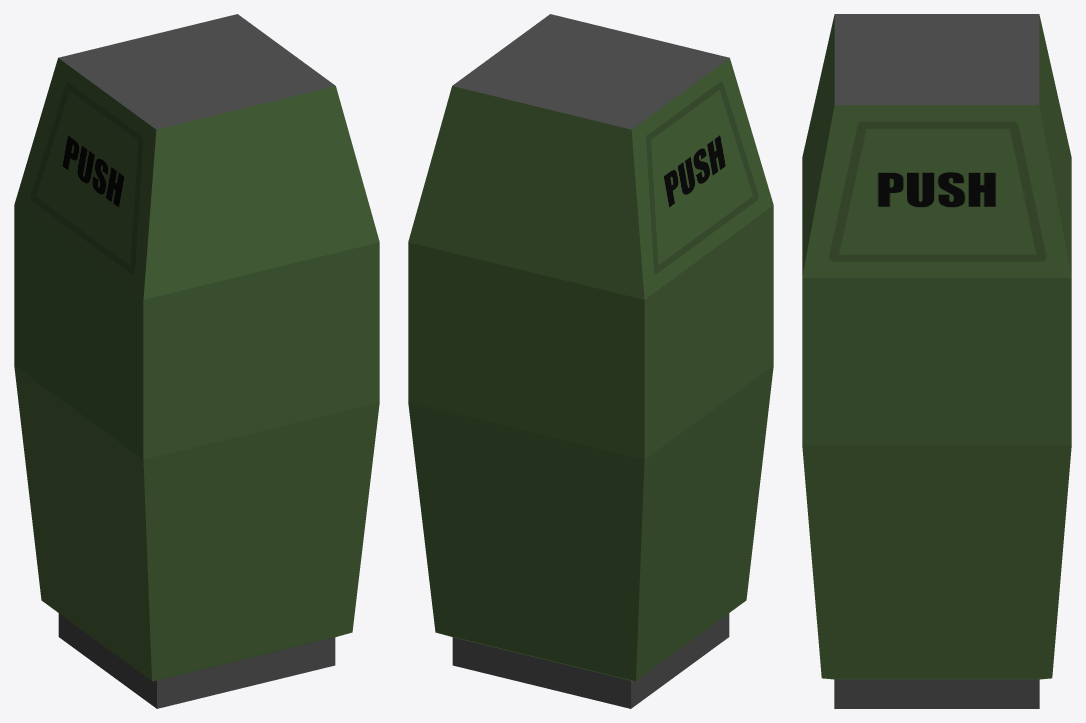
The model's file is prullen bak.fbx.
The picture shows the model from 3 angles, left to right: view 1: azimuth 30°, elevation 25°; view 2: azimuth 150°, elevation 25°; view 3: azimuth 270°, elevation 25°; orthographic projection. The views are drawn at different scales.
Parts seen in each view (by area): view 1: pCube3; view 2: pCube3; view 3: pCube3.
Part boxes in pixels (<box>): pCube3: <box>14,14,379,708</box>; pCube3: <box>408,14,773,708</box>; pCube3: <box>802,14,1071,708</box>.
Bounding box in the file's own units: 7.87 × 18.44 × 7.46.
